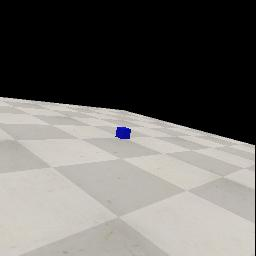box: (115, 127, 131, 139)
